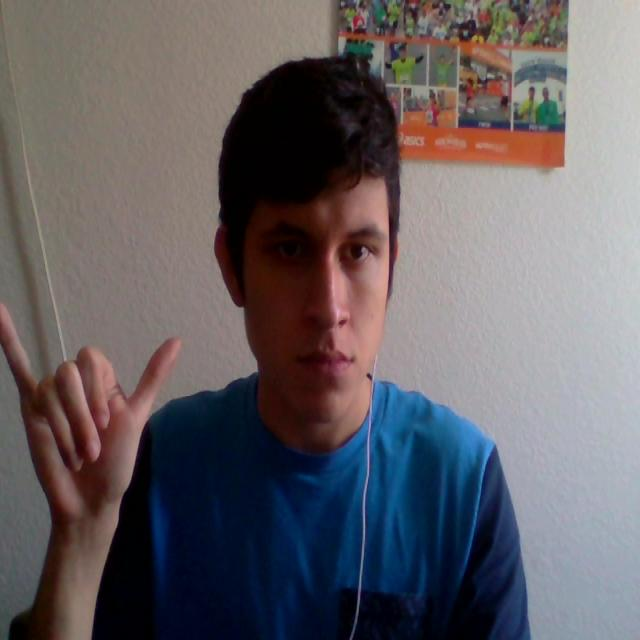Y: (0, 267, 204, 547)
